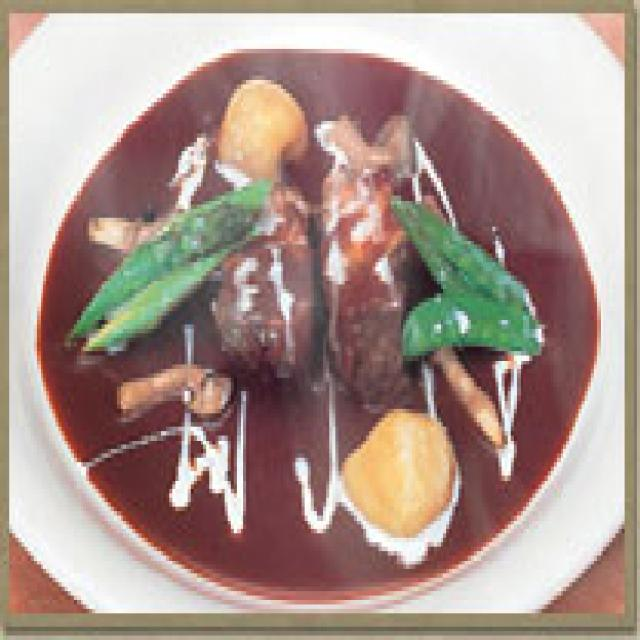汤锅炖物: (12, 13, 612, 596)
